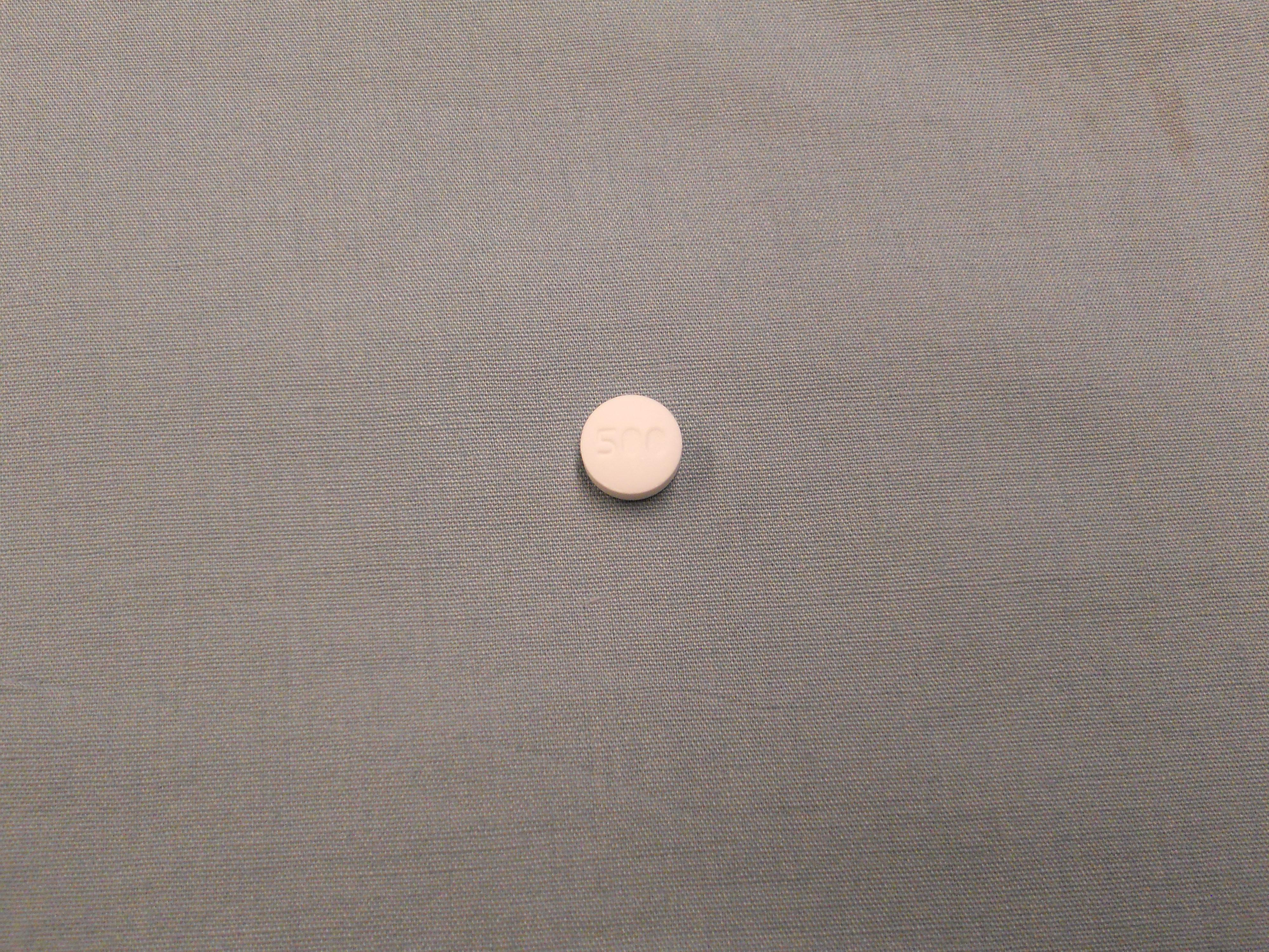Pill: (573, 389, 692, 505)
